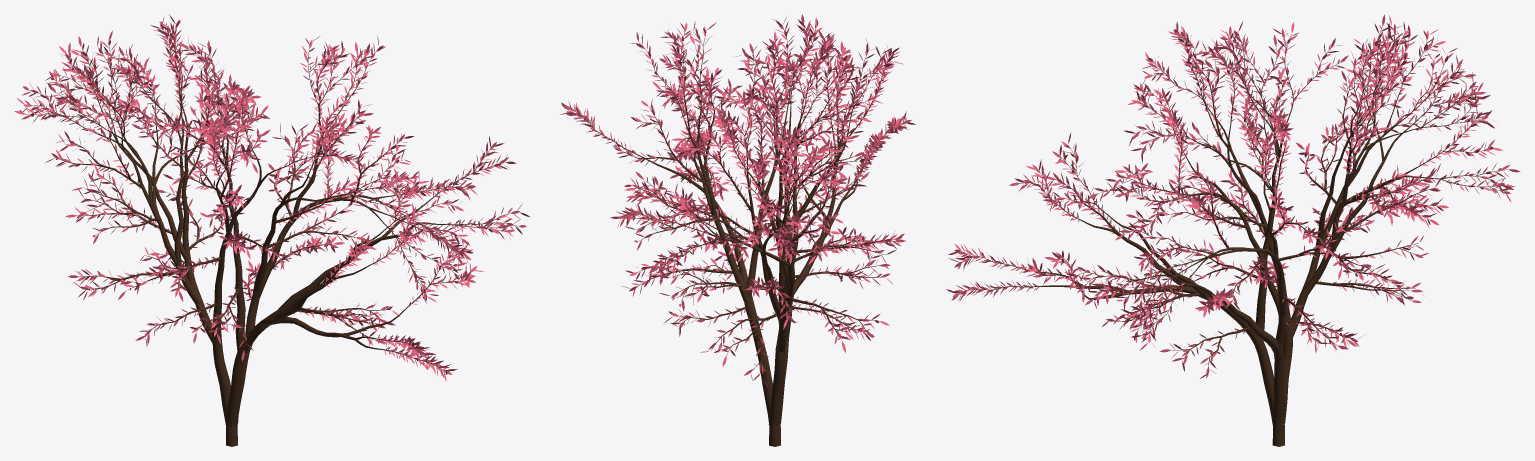
Rendered from tree3.glb.
The picture shows the model from 3 angles, left to right: view 1: azimuth 30°, elevation 25°; view 2: azimuth 150°, elevation 25°; view 3: azimuth 270°, elevation 25°; orthographic projection.
Parts seen in each view (by area): view 1: leaves.003, tree3; view 2: leaves.003, tree3; view 3: leaves.003, tree3.
Boxes of the visible parts, x1,y1,x2,y2 form: leaves.003: (14,14,529,381); tree3: (26,27,518,446); leaves.003: (560,14,916,388); tree3: (570,24,896,446); leaves.003: (946,14,1520,378); tree3: (959,27,1507,446).
Size of the model in its own units: 61.08 by 62.45 by 79.66.
